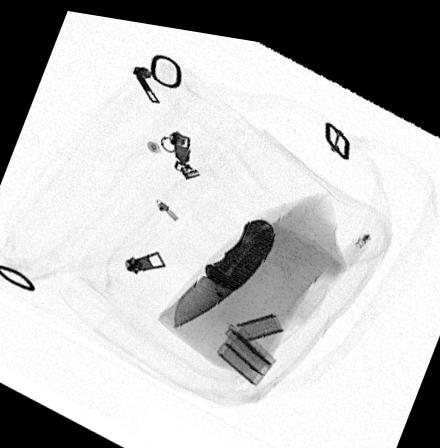Knife: (172, 208, 276, 326)
